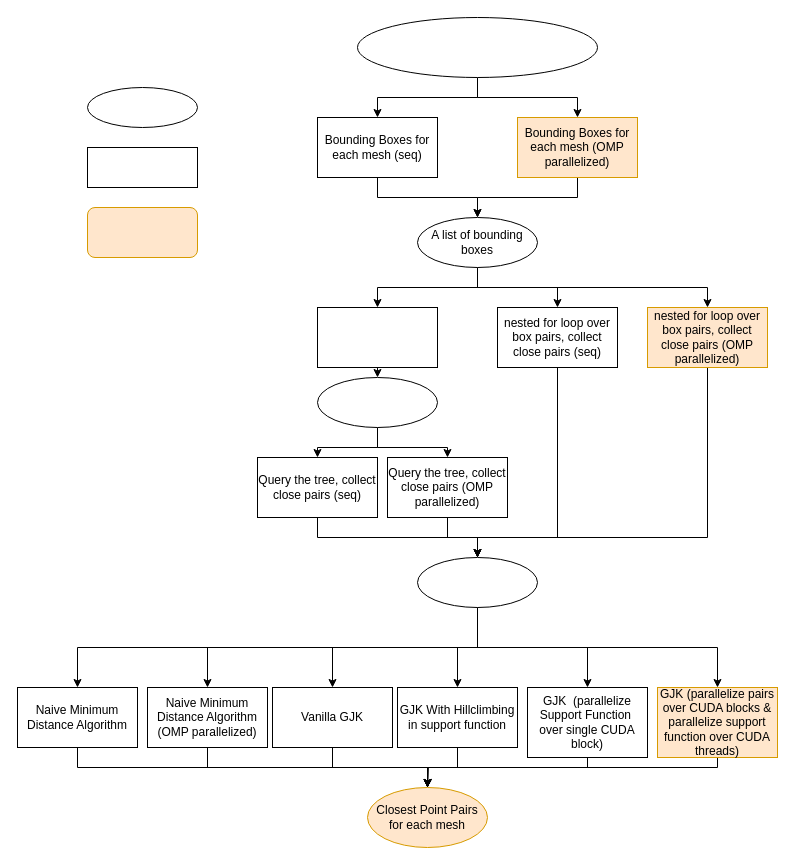
The diagram is 795 pixels wide and 865 high, and some of its shapes have lost their labels. The centre of each missing label's shape, as x and y in pixels:
A list of meshes, where each mesh consists of a list of vertices: point 477,47
AABB Tree: point 377,402
Close Mesh Pairs: point 477,582
Code: point 142,167
Create a AABB tree (seq): point 377,337
Data: point 142,107
Most Performant Implementation: point 142,232
